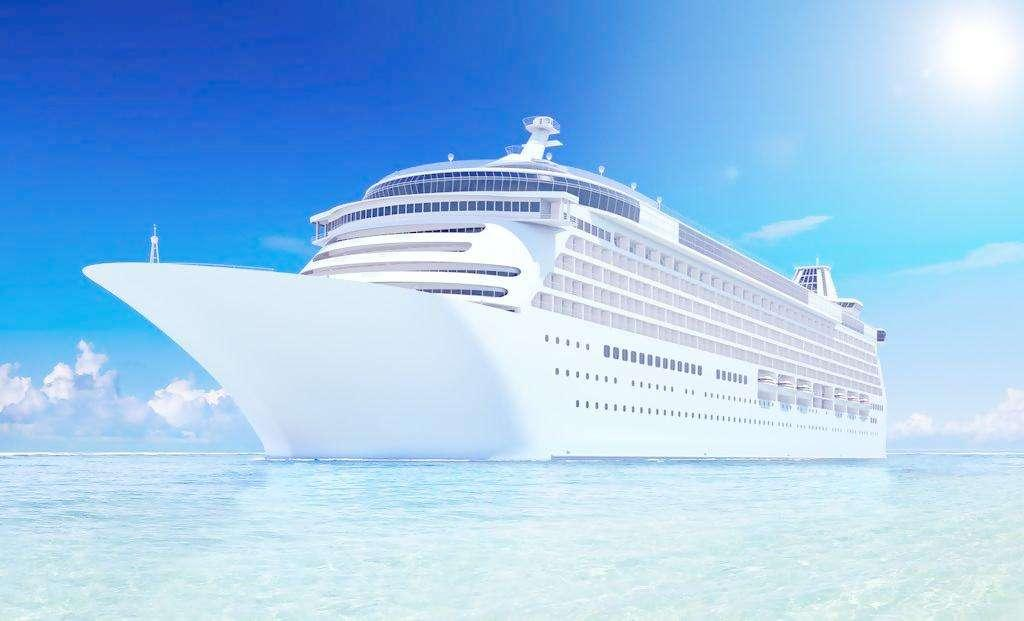youlun: (79, 116, 908, 461)
